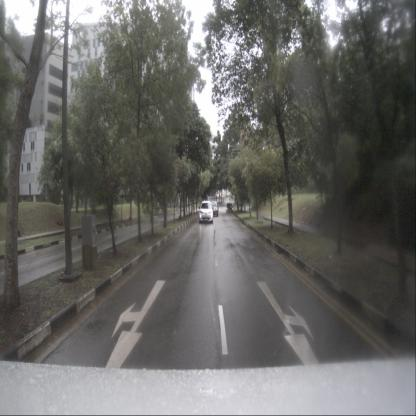vehicle-car: (199, 200, 213, 223), (208, 200, 218, 217), (226, 202, 233, 214)
